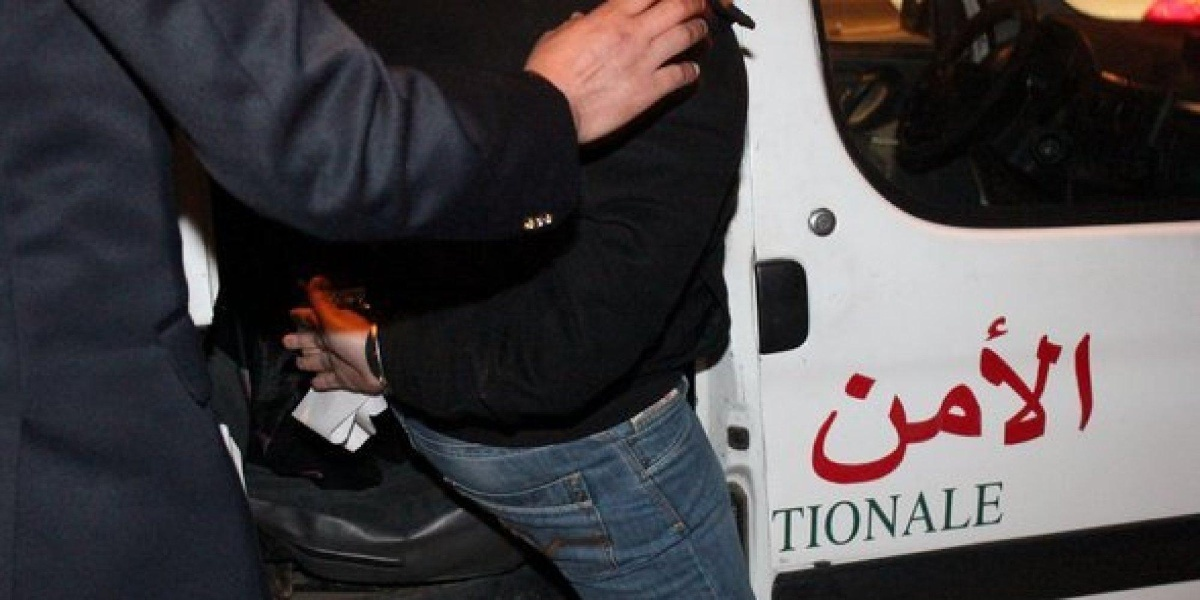text: (817, 296, 832, 495), (833, 296, 848, 495), (849, 296, 864, 495), (865, 296, 880, 495), (881, 296, 896, 495), (897, 296, 912, 495), (913, 296, 928, 495), (929, 296, 944, 495), (945, 296, 960, 495), (961, 296, 976, 495), (977, 296, 992, 495), (993, 296, 1008, 495), (1009, 296, 1024, 495), (1025, 296, 1040, 495), (1041, 296, 1056, 495), (1057, 296, 1072, 495), (1073, 296, 1088, 495), (802, 296, 816, 495), (1089, 296, 1103, 495), (993, 481, 1009, 560), (769, 481, 784, 560), (785, 481, 800, 560), (801, 481, 816, 560), (817, 481, 832, 560), (833, 481, 848, 560), (849, 481, 864, 560), (865, 481, 880, 560), (881, 481, 896, 560), (897, 481, 912, 560), (913, 481, 928, 560), (929, 481, 944, 560), (945, 481, 960, 560), (961, 481, 976, 560), (977, 481, 992, 560), (766, 481, 768, 560)
